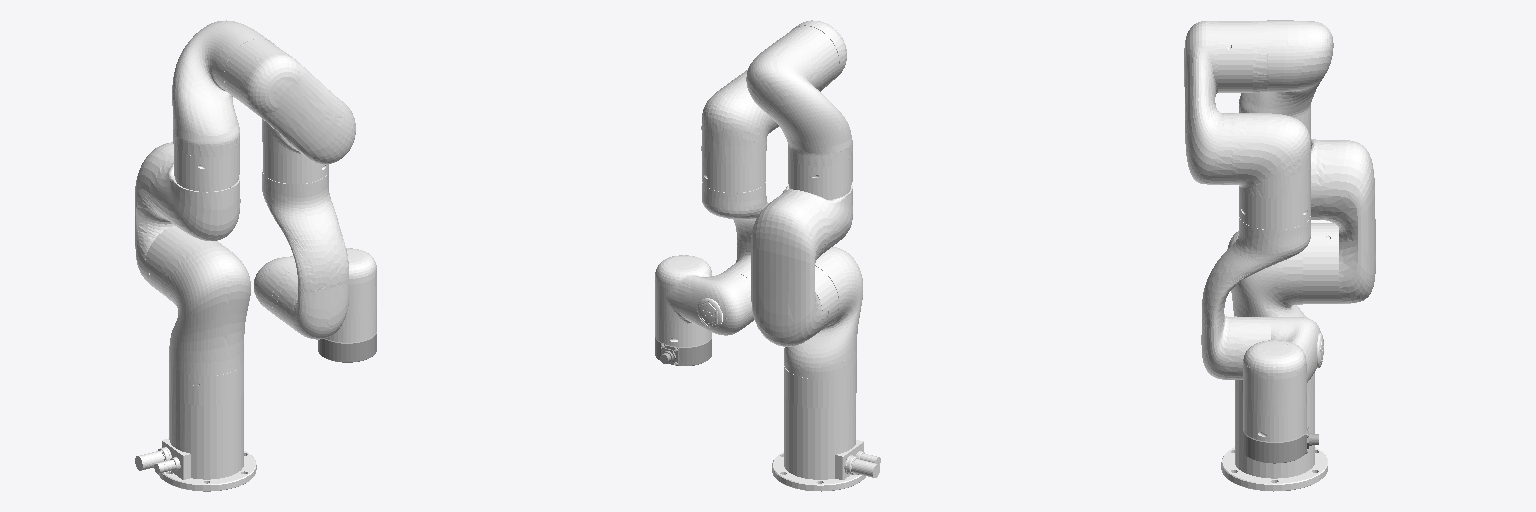
URDF robot description (xarm7):
<?xml version="1.0" encoding="utf-8"?>
<!-- =================================================================================== -->
<!-- |    This document was autogenerated by xacro from xarm7_robot.urdf.xacro         | -->
<!-- |    EDITING THIS FILE BY HAND IS NOT RECOMMENDED                                 | -->
<!-- =================================================================================== -->
<robot name="xarm7">
  <!--
  Author: [author] <[email redacted]> <[email redacted]>
  Contributers:
-->
  <link name="world"/>
  <joint name="world_joint" type="fixed">
    <parent link="world"/>
    <child link="link_base"/>
    <origin rpy="0 0 0" xyz="0 0 0"/>
  </joint>
  <material name="Black">
    <color rgba="0.0 0.0 0.0 1.0"/>
  </material>
  <material name="Red">
    <color rgba="0.8 0.0 0.0 1.0"/>
  </material>
  <material name="White">
    <color rgba="1.0 1.0 1.0 1.0"/>
  </material>
  <material name="Silver">
    <color rgba="0.753 0.753 0.753 1.0"/>
  </material>
  <link name="link_base">
    <inertial>
      <origin rpy="0 0 0" xyz="-0.021131 -0.0016302 0.056488"/>
      <mass value="0.88556"/>
      <inertia ixx="0.0030595" ixy="0.00012259" ixz="-0.00062705" iyy="0.0037783" iyz="0.00027023" izz="0.0020125"/>
    </inertial>
    <visual>
      <origin rpy="0 0 0" xyz="0 0 0"/>
      <geometry>
        <mesh filename="xarm_description/meshes/xarm7/visual/link_base.STL"/>
      </geometry>
      <material name="White"/>
    </visual>
    <collision>
      <origin rpy="0 0 0" xyz="0 0 0"/>
      <geometry>
        <mesh filename="xarm_description/meshes/xarm7/visual/link_base.STL"/>
      </geometry>
    </collision>
  </link>
  <link name="link1">
    <inertial>
      <origin rpy="0 0 0" xyz="-0.0042142 0.02821 -0.0087788"/>
      <mass value="0.42603"/>
      <inertia ixx="0.0014243" ixy="3.9946E-05" ixz="4.7078E-06" iyy="0.00123" iyz="-0.00026073" izz="0.00099229"/>
    </inertial>
    <visual>
      <origin rpy="0 0 0" xyz="0 0 0"/>
      <geometry>
        <mesh filename="xarm_description/meshes/xarm7/visual/link1.STL"/>
      </geometry>
      <material name="White"/>
    </visual>
    <collision>
      <origin rpy="0 0 0" xyz="0 0 0"/>
      <geometry>
        <mesh filename="xarm_description/meshes/xarm7/visual/link1.STL"/>
      </geometry>
    </collision>
  </link>
  <joint name="joint1" type="revolute">
    <origin rpy="0 0 0" xyz="0 0 0.267"/>
    <parent link="link_base"/>
    <child link="link1"/>
    <axis xyz="0 0 1"/>
    <limit effort="50" lower="-6.28318530718" upper="6.28318530718" velocity="3.14"/>
    <dynamics damping="10" friction="1"/>
  </joint>
  <link name="link2">
    <inertial>
      <origin rpy="0 0 0" xyz="-3.3178E-05 -0.12849 0.026337"/>
      <mass value="0.56095"/>
      <inertia ixx="0.0031915" ixy="3.0892E-06" ixz="2.8729E-06" iyy="0.0017468" iyz="-0.0010241" izz="0.00235"/>
    </inertial>
    <visual>
      <origin rpy="0 0 0" xyz="0 0 0"/>
      <geometry>
        <mesh filename="xarm_description/meshes/xarm7/visual/link2.STL"/>
      </geometry>
      <material name="White"/>
    </visual>
    <collision>
      <origin rpy="0 0 0" xyz="0 0 0"/>
      <geometry>
        <mesh filename="xarm_description/meshes/xarm7/visual/link2.STL"/>
      </geometry>
    </collision>
  </link>
  <joint name="joint2" type="revolute">
    <origin rpy="-1.5708 0 0" xyz="0 0 0"/>
    <parent link="link1"/>
    <child link="link2"/>
    <axis xyz="0 0 1"/>
    <limit effort="50" lower="-2.059" upper="2.0944" velocity="3.14"/>
    <dynamics damping="10" friction="1"/>
  </joint>
  <link name="link3">
    <inertial>
      <origin rpy="0 0 0" xyz="0.04223 -0.023258 -0.0096674"/>
      <mass value="0.44463"/>
      <inertia ixx="0.0011454" ixy="0.0001654" ixz="-0.0001951" iyy="0.0010503" iyz="0.00012027" izz="0.0011083"/>
    </inertial>
    <visual>
      <origin rpy="0 0 0" xyz="0 0 0"/>
      <geometry>
        <mesh filename="xarm_description/meshes/xarm7/visual/link3.STL"/>
      </geometry>
      <material name="White"/>
    </visual>
    <collision>
      <origin rpy="0 0 0" xyz="0 0 0"/>
      <geometry>
        <mesh filename="xarm_description/meshes/xarm7/visual/link3.STL"/>
      </geometry>
    </collision>
  </link>
  <joint name="joint3" type="revolute">
    <origin rpy="1.5708 0 0" xyz="0 -0.293 0"/>
    <parent link="link2"/>
    <child link="link3"/>
    <axis xyz="0 0 1"/>
    <limit effort="30" lower="-6.28318530718" upper="6.28318530718" velocity="3.14"/>
    <dynamics damping="5" friction="1"/>
  </joint>
  <link name="link4">
    <inertial>
      <origin rpy="0 0 0" xyz="0.067148 -0.10732 0.024479"/>
      <mass value="0.52387"/>
      <inertia ixx="0.0026033" ixy="0.00053379" ixz="0.00036314" iyy="0.0017649" iyz="-0.00083253" izz="0.0022431"/>
    </inertial>
    <visual>
      <origin rpy="0 0 0" xyz="0 0 0"/>
      <geometry>
        <mesh filename="xarm_description/meshes/xarm7/visual/link4.STL"/>
      </geometry>
      <material name="White"/>
    </visual>
    <collision>
      <origin rpy="0 0 0" xyz="0 0 0"/>
      <geometry>
        <mesh filename="xarm_description/meshes/xarm7/visual/link4.STL"/>
      </geometry>
    </collision>
  </link>
  <joint name="joint4" type="revolute">
    <origin rpy="1.5708 0 0" xyz="0.0525 0 0"/>
    <parent link="link3"/>
    <child link="link4"/>
    <axis xyz="0 0 1"/>
    <limit effort="30" lower="-0.19198" upper="3.927" velocity="3.14"/>
    <dynamics damping="5" friction="1"/>
  </joint>
  <link name="link5">
    <inertial>
      <origin rpy="0 0 0" xyz="-0.00023397 0.036705 -0.080064"/>
      <mass value="0.18554"/>
      <inertia ixx="0.00099549" ixy="8.9957E-07" ixz="8.5285E-07" iyy="0.0008853" iyz="-0.00025682" izz="0.00035048"/>
    </inertial>
    <visual>
      <origin rpy="0 0 0" xyz="0 0 0"/>
      <geometry>
        <mesh filename="xarm_description/meshes/xarm7/visual/link5.STL"/>
      </geometry>
      <material name="White"/>
    </visual>
    <collision>
      <origin rpy="0 0 0" xyz="0 0 0"/>
      <geometry>
        <mesh filename="xarm_description/meshes/xarm7/visual/link5.STL"/>
      </geometry>
    </collision>
  </link>
  <joint name="joint5" type="revolute">
    <origin rpy="1.5708 0 0" xyz="0.0775 -0.3425 0"/>
    <parent link="link4"/>
    <child link="link5"/>
    <axis xyz="0 0 1"/>
    <limit effort="30" lower="-6.28318530718" upper="6.28318530718" velocity="3.14"/>
    <dynamics damping="5" friction="1"/>
  </joint>
  <link name="link6">
    <inertial>
      <origin rpy="0 0 0" xyz="0.058911 0.028469 0.0068428"/>
      <mass value="0.31344"/>
      <inertia ixx="0.00052034" ixy="-0.00014989" ixz="0.00011658" iyy="0.00067968" iyz="6.116E-05" izz="0.00078345"/>
    </inertial>
    <visual>
      <origin rpy="0 0 0" xyz="0 0 0"/>
      <geometry>
        <mesh filename="xarm_description/meshes/xarm7/visual/link6.STL"/>
      </geometry>
      <material name="White"/>
    </visual>
    <collision>
      <origin rpy="0 0 0" xyz="0 0 0"/>
      <geometry>
        <mesh filename="xarm_description/meshes/xarm7/visual/link6.STL"/>
      </geometry>
    </collision>
  </link>
  <joint name="joint6" type="revolute">
    <origin rpy="1.5708 0 0" xyz="0 0 0"/>
    <parent link="link5"/>
    <child link="link6"/>
    <axis xyz="0 0 1"/>
    <limit effort="20" lower="-1.69297" upper="3.14159265359" velocity="3.14"/>
    <dynamics damping="2" friction="1"/>
  </joint>
  <link name="link7">
    <inertial>
      <origin rpy="0 0 0" xyz="-1.5846E-05 -0.0046377 -0.012705"/>
      <mass value="0.31468"/>
      <inertia ixx="0.00016985" ixy="1.1102E-07" ixz="5.1075E-08" iyy="0.00011924" iyz="-2.1251E-06" izz="0.00026032"/>
    </inertial>
    <visual>
      <origin rpy="0 0 0" xyz="0 0 0"/>
      <geometry>
        <mesh filename="xarm_description/meshes/xarm7/visual/link7.STL"/>
      </geometry>
      <material name="Silver"/>
    </visual>
    <collision>
      <origin rpy="0 0 0" xyz="0 0 0"/>
      <geometry>
        <mesh filename="xarm_description/meshes/xarm7/visual/link7.STL"/>
      </geometry>
    </collision>
  </link>
  <joint name="joint7" type="revolute">
    <origin rpy="-1.5708 0 0" xyz="0.076 0.097 0"/>
    <parent link="link6"/>
    <child link="link7"/>
    <axis xyz="0 0 1"/>
    <limit effort="20" lower="-6.28318530718" upper="6.28318530718" velocity="3.14"/>
    <dynamics damping="2" friction="1"/>
  </joint>
  <joint name="gripper_base_joint" type="fixed">
    <origin rpy="0 0 0" xyz="0 0 0"/>
    <parent link="link7"/>
    <child link="gripper_base_link"/>
    <axis xyz="0 0 0"/>
  </joint>
  <link name="gripper_base_link">
    <inertial>
      <origin rpy="0 0 0" xyz="4.03E-06 1.08E-05 0.041397"/>
      <mass value="0.1395"/>
      <inertia ixx="0.00011614" ixy="1E-08" ixz="4E-08" iyy="0.00010327" iyz="0" izz="9.707E-05"/>
    </inertial>
    <visual>
      <origin rpy="0 0 0" xyz="0 0 0"/>
      <geometry>
        <mesh filename="../kinova_gen3/kortex_description/grippers/gen3_lite_2f/meshes/gripper_base_link.STL"/>
      </geometry>
      <material name="">
        <color rgba="0.803 0.824 0.820 1"/>
      </material>
    </visual>
    <collision>
      <origin rpy="0 0 0" xyz="0 0 0"/>
      <geometry>
        <mesh filename="../kinova_gen3/kortex_description/grippers/gen3_lite_2f/meshes/gripper_base_link.STL"/>
      </geometry>
    </collision>
  </link>
  <link name="right_finger_prox_link">
    <inertial>
      <origin rpy="0 0 0" xyz="0.020257 0.0063483 6.991E-05"/>
      <mass value="0.018385"/>
      <inertia ixx="2.29E-06" ixy="1.43E-06" ixz="0" iyy="4.56E-06" iyz="0" izz="4.77E-06"/>
    </inertial>
    <visual>
      <origin rpy="0 0 0" xyz="0 0 0"/>
      <geometry>
        <mesh filename="../kinova_gen3/kortex_description/grippers/gen3_lite_2f/meshes/right_finger_prox_link.STL"/>
      </geometry>
      <material name="">
        <color rgba="0.803 0.824 0.820 1"/>
      </material>
    </visual>
    <collision>
      <origin rpy="0 0 0" xyz="0 0 0"/>
      <geometry>
        <mesh filename="../kinova_gen3/kortex_description/grippers/gen3_lite_2f/meshes/right_finger_prox_link.STL"/>
      </geometry>
    </collision>
  </link>
  <joint name="right_finger_bottom_joint" type="revolute">
    <origin rpy="0 1.5708 0" xyz="0 -0.030501 0.070003"/>
    <parent link="gripper_base_link"/>
    <child link="right_finger_prox_link"/>
    <axis xyz="0 0 1"/>
    <limit effort="1000" lower="-0.09" upper="0.96" velocity="0.6"/>
  </joint>
  <link name="right_finger_dist_link">
    <inertial>
      <origin rpy="0 0 0" xyz="0.018488 0.0011091 0"/>
      <mass value="0.010748"/>
      <inertia ixx="6.3E-03" ixy="3.2E-07" ixz="0" iyy="1.83E-03" iyz="0" izz="1.61E-03"/>
    </inertial>
    <visual>
      <origin rpy="0 0 0" xyz="0 0 0"/>
      <geometry>
        <mesh filename="../kinova_gen3/kortex_description/grippers/gen3_lite_2f/meshes/right_finger_dist_link.STL"/>
      </geometry>
      <material name="">
        <color rgba="0 0.055 0.525 1"/>
      </material>
    </visual>
    <collision>
      <origin rpy="0 0 0" xyz="0 0 0"/>
      <geometry>
        <mesh filename="../kinova_gen3/kortex_description/grippers/gen3_lite_2f/meshes/right_finger_dist_link.STL"/>
      </geometry>
    </collision>
  </link>
  <joint name="right_finger_tip_joint" type="fixed">
    <origin rpy="0 0 0.21" xyz="-0.045636 0.020423 0"/>
    <parent link="right_finger_prox_link"/>
    <child link="right_finger_dist_link"/>
    <axis xyz="0 0 1"/>
    <limit effort="1000" lower="-0.50" upper="0.21" velocity="1000"/>
    <mimic joint="right_finger_bottom_joint" multiplier="-0.676" offset="0.149"/>
  </joint>
  <link name="left_finger_prox_link">
    <inertial>
      <origin rpy="0 0 0" xyz="0.020257 0.0063483 6.99E-05"/>
      <mass value="0.018385"/>
      <inertia ixx="2.29E-03" ixy="1.43E-06" ixz="0" iyy="4.56E-03" iyz="0" izz="4.77E-03"/>
    </inertial>
    <visual>
      <origin rpy="0 0 0" xyz="0 0 0"/>
      <geometry>
        <mesh filename="../kinova_gen3/kortex_description/grippers/gen3_lite_2f/meshes/left_finger_prox_link.STL"/>
      </geometry>
      <material name="">
        <color rgba="0.803 0.824 0.820 1"/>
      </material>
    </visual>
    <collision>
      <origin rpy="0 0 0" xyz="0 0 0"/>
      <geometry>
        <mesh filename="../kinova_gen3/kortex_description/grippers/gen3_lite_2f/meshes/left_finger_prox_link.STL"/>
      </geometry>
    </collision>
  </link>
  <joint name="left_finger_bottom_joint" type="revolute">
    <origin rpy="0 1.5708 0" xyz="0 0.0305 0.070003"/>
    <parent link="gripper_base_link"/>
    <child link="left_finger_prox_link"/>
    <axis xyz="0 0 -1"/>
    <limit effort="1000" lower="-0.09" upper="0.96" velocity="1000"/>
    <mimic joint="right_finger_bottom_joint" multiplier="-1.0" offset="0.0"/>
  </joint>
  <link name="left_finger_dist_link">
    <inertial>
      <origin rpy="0 0 0" xyz="-0.018488 0.0011091 0"/>
      <mass value="0.010748"/>
      <inertia ixx="6.3E-03" ixy="3.2E-07" ixz="0" iyy="1.83E-03" iyz="0" izz="1.61E-03"/>
    </inertial>
    <visual>
      <origin rpy="0 0 0" xyz="0 0 0"/>
      <geometry>
        <mesh filename="../kinova_gen3/kortex_description/grippers/gen3_lite_2f/meshes/left_finger_dist_link.STL"/>
      </geometry>
      <material name="">
        <color rgba="0 0.055 0.525 1"/>
      </material>
    </visual>
    <collision>
      <origin rpy="0 0 0" xyz="0 0 0"/>
      <geometry>
        <mesh filename="../kinova_gen3/kortex_description/grippers/gen3_lite_2f/meshes/left_finger_dist_link.STL"/>
      </geometry>
    </collision>
  </link>
  <joint name="left_finger_tip_joint" type="fixed">
    <origin rpy="0 0 -0.21" xyz="-0.045636 -0.020423 6.9901E-05"/>
    <parent link="left_finger_prox_link"/>
    <child link="left_finger_dist_link"/>
    <axis xyz="0 0 -1"/>
    <limit effort="1000" lower="-0.50" upper="0.21" velocity="1000"/>
    <mimic joint="right_finger_bottom_joint" multiplier="-0.676" offset="0.149"/>
  </joint>
</robot>

--- What the picture shows (computed from the rendered views, not written in the file) ---
3 views of the same robot in one strip: view 1: azimuth 30°, elevation 25°; view 2: azimuth 150°, elevation 25°; view 3: azimuth 270°, elevation 25° (orthographic).
Robot: xarm7 — 14 links, 13 joints (9 revolute, 4 fixed); root link world; default pose: every joint at zero.
Visible links, largest first — view 1: link1, link4, link_base, link5, link3, link2, link6, link7; view 2: link2, link3, link_base, link6, link4, link1, link5, link7; view 3: link4, link3, link2, link6, link5, link1, link_base, link7.
Boxes of the visible links, left/top/right/bottom form: link1: left=145, top=225, right=250, bottom=375; link4: left=240, top=50, right=355, bottom=183; link_base: left=135, top=362, right=256, bottom=491; link5: left=262, top=169, right=348, bottom=339; link3: left=172, top=20, right=283, bottom=156; link2: left=135, top=142, right=240, bottom=286; link6: left=254, top=248, right=376, bottom=342; link7: left=318, top=332, right=376, bottom=362; link2: left=751, top=155, right=852, bottom=346; link3: left=746, top=26, right=852, bottom=166; link_base: left=772, top=366, right=880, bottom=491; link6: left=655, top=255, right=753, bottom=346; link4: left=701, top=20, right=846, bottom=192; link1: left=784, top=247, right=862, bottom=378; link5: left=702, top=182, right=768, bottom=314; link7: left=655, top=337, right=711, bottom=365; link4: left=1184, top=21, right=1310, bottom=229; link3: left=1218, top=20, right=1333, bottom=124; link2: left=1305, top=118, right=1375, bottom=303; link6: left=1243, top=317, right=1323, bottom=441; link5: left=1201, top=216, right=1310, bottom=379; link1: left=1227, top=223, right=1338, bottom=317; link_base: left=1221, top=373, right=1327, bottom=491; link7: left=1243, top=426, right=1318, bottom=463.
Size in the robot's own frame: 0.3358 by 0.2259 by 0.6028 metres.
8 mesh visuals loaded from 13 distinct referenced files (8 binary STL); not drawn: 5 (reference not matched to a file when rendering).
